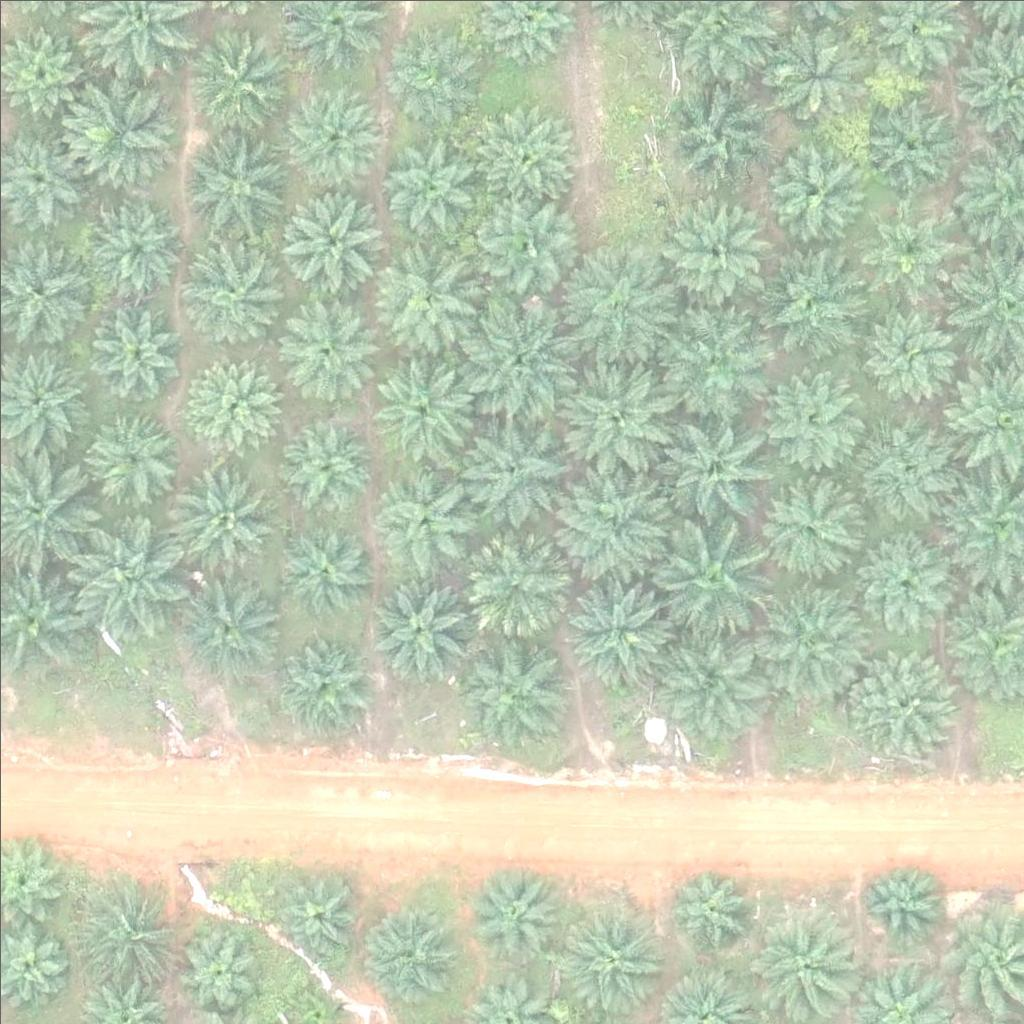Kelapa_Sawit: (456, 637, 569, 751), (558, 573, 671, 687), (558, 364, 671, 478), (659, 304, 772, 418), (72, 519, 185, 632), (373, 247, 486, 360), (464, 310, 577, 423), (460, 524, 573, 637), (562, 460, 675, 573), (565, 246, 678, 359), (652, 523, 765, 636), (754, 249, 867, 362), (845, 642, 958, 755), (68, 876, 181, 989), (169, 568, 281, 682), (372, 457, 484, 571), (458, 413, 570, 527), (749, 584, 861, 698), (557, 901, 669, 1015), (65, 78, 177, 191), (653, 185, 765, 298), (659, 410, 771, 523), (655, 622, 767, 735), (665, 82, 777, 195), (855, 414, 967, 527), (742, 906, 854, 1019), (87, 200, 187, 301), (183, 244, 283, 345), (181, 131, 281, 232), (189, 28, 289, 129), (287, 84, 387, 185), (280, 191, 380, 292), (274, 632, 374, 733), (371, 574, 471, 675), (373, 354, 473, 455), (381, 25, 481, 126), (476, 197, 576, 298), (759, 481, 859, 582), (759, 135, 859, 236), (763, 24, 863, 125), (856, 100, 956, 201), (862, 308, 962, 409), (857, 540, 957, 641), (166, 919, 266, 1020), (358, 901, 458, 1002), (464, 857, 564, 958), (172, 463, 272, 563), (184, 351, 284, 451), (273, 298, 373, 398), (276, 414, 376, 514), (273, 519, 373, 619), (380, 135, 480, 235), (472, 107, 572, 207), (760, 371, 860, 471), (857, 202, 957, 302), (98, 305, 186, 393), (664, 856, 752, 944), (273, 872, 360, 961), (89, 418, 176, 506), (858, 856, 945, 944)
